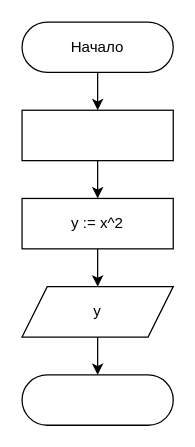
This 195x447 diagram has some shape labels left out. The centre of each missing label's shape, as x and y in pixels:
x := 3: pixel 97 135
Конец: pixel 97 399
